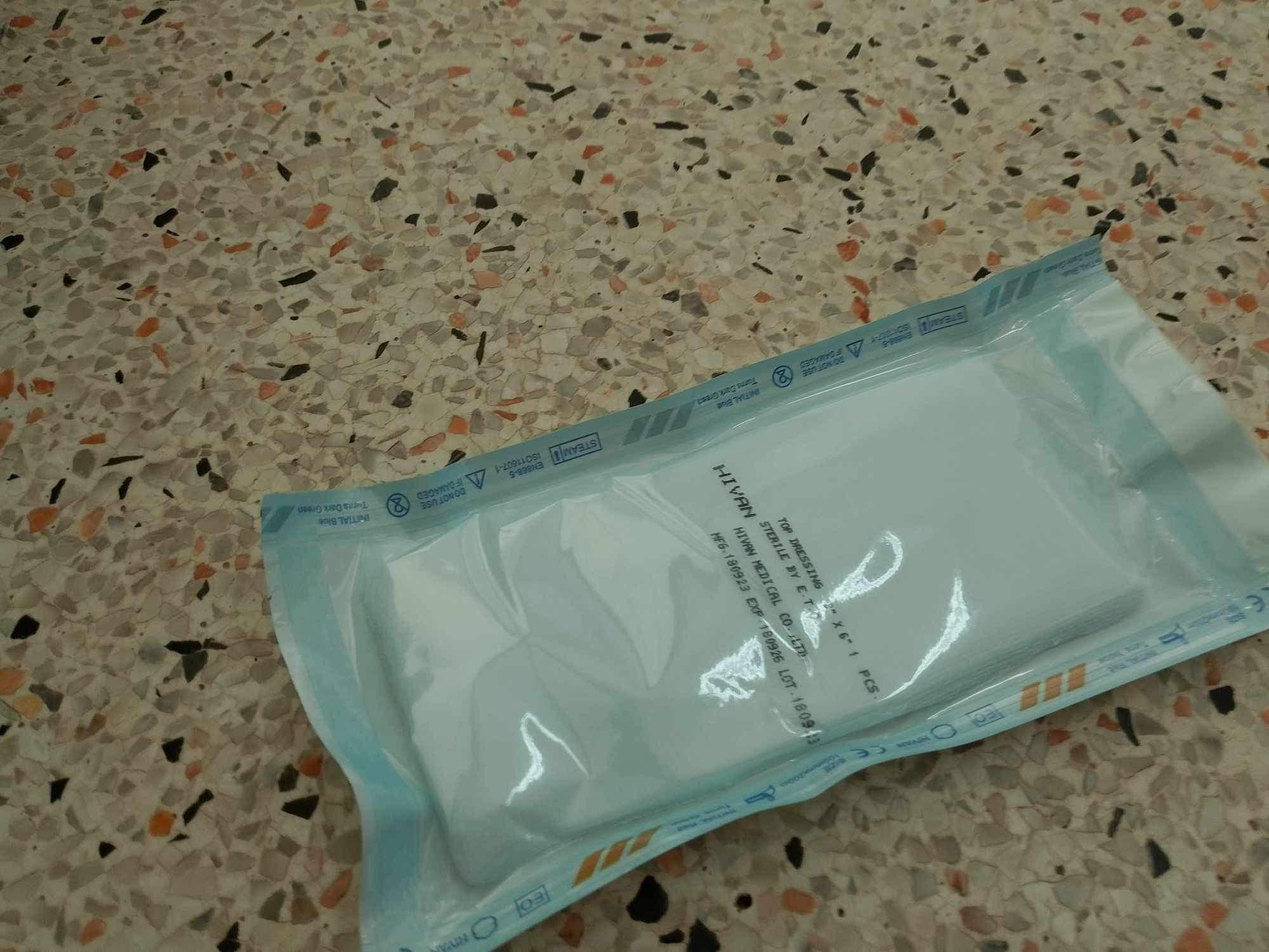General: (254, 232, 1265, 948)
